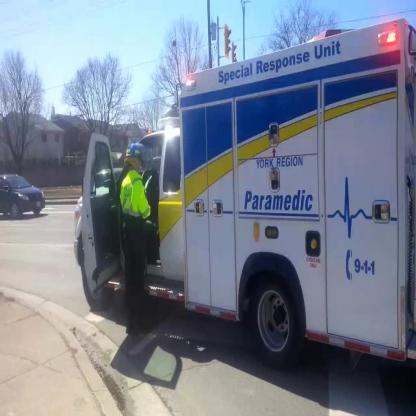Ambulance: (74, 21, 415, 374)
Truck: (72, 41, 416, 370)
